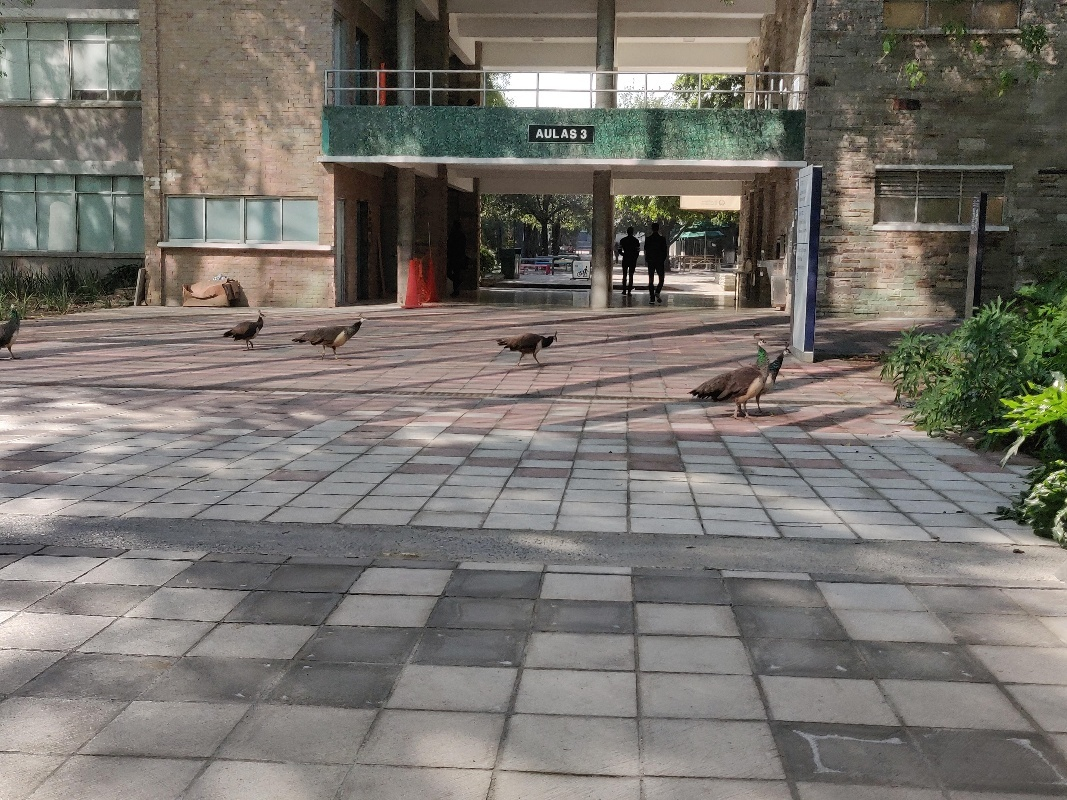pavoreal: (695, 352, 770, 409), (291, 313, 378, 356), (495, 325, 567, 369), (223, 311, 272, 353)
